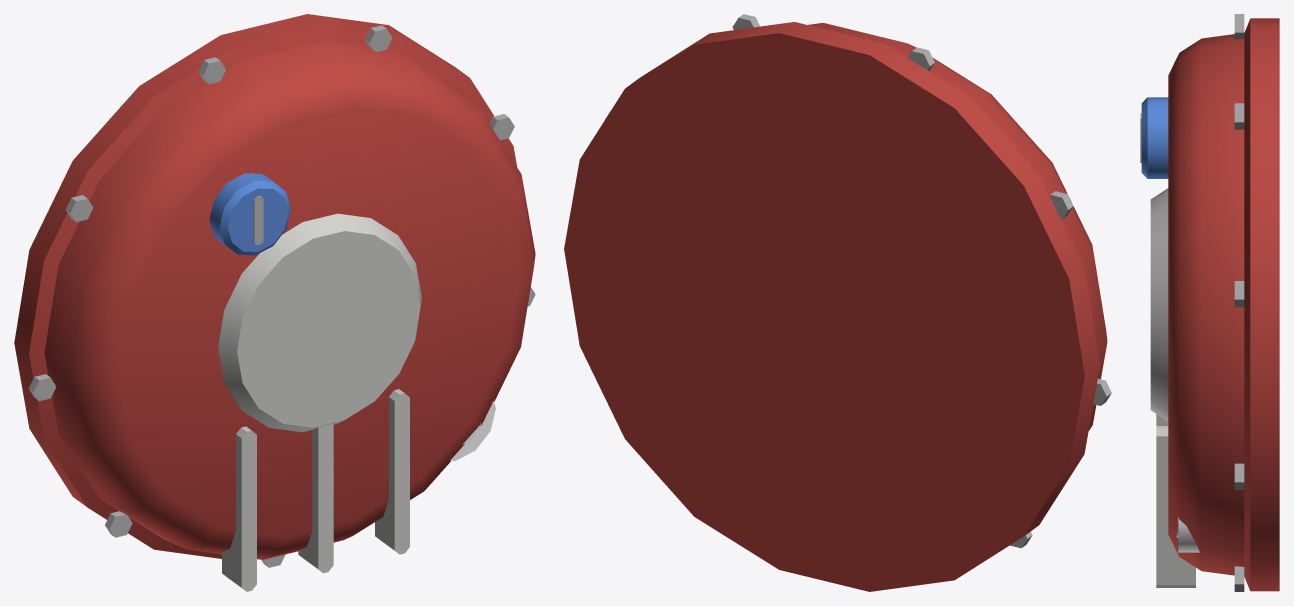
Rendered from clutch.glb.
The picture shows the model from 3 angles, left to right: view 1: azimuth 30°, elevation 25°; view 2: azimuth 150°, elevation 25°; view 3: azimuth 270°, elevation 25°; orthographic projection. The views are drawn at different scales.
Visible parts, largest first — view 1: clutch; view 2: clutch; view 3: clutch.
Part boxes in pixels (left/top/right/bottom): clutch: left=14, top=14, right=535, bottom=591; clutch: left=564, top=14, right=1111, bottom=591; clutch: left=1140, top=14, right=1279, bottom=591.
Size of the model in its own units: 0.1973 by 0.1958 by 0.0475.
